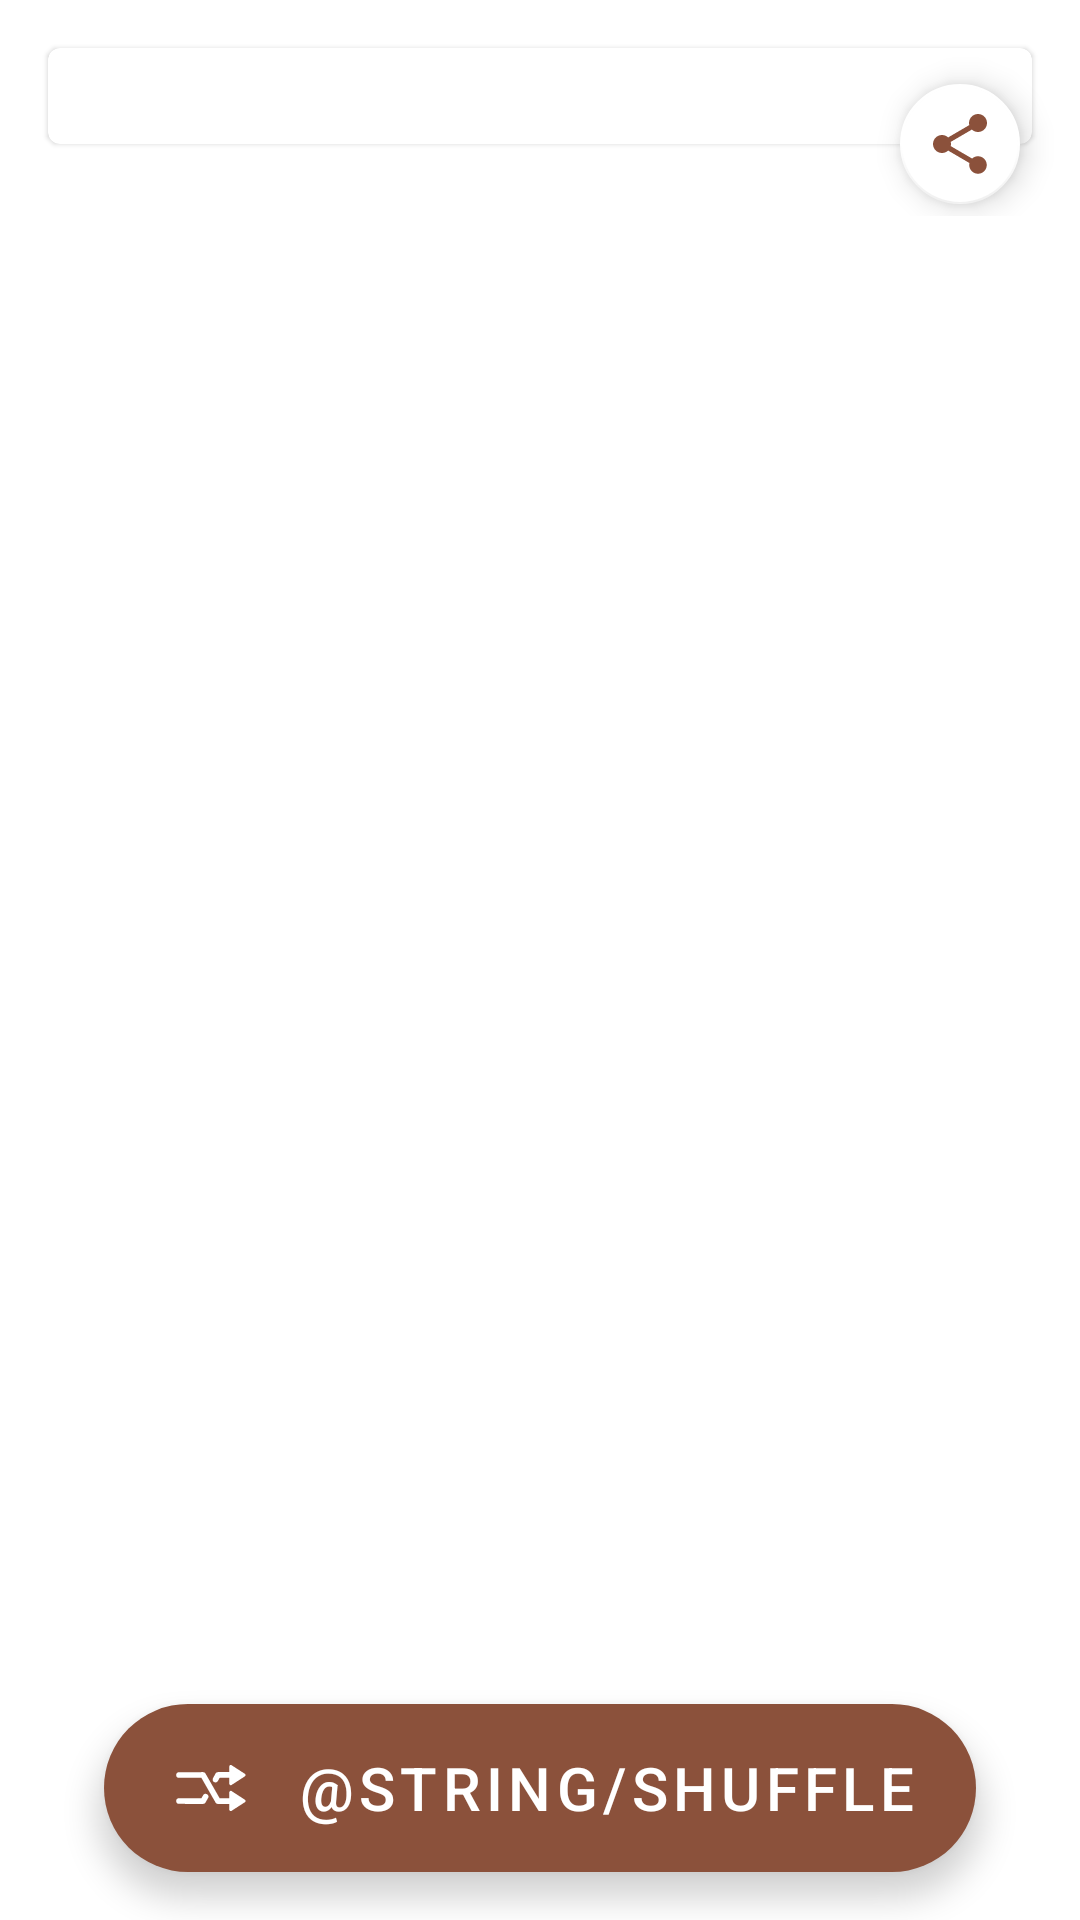

Screen size 1080w x 1920h. Icon name, then its box in pixels as (x1, y1, x2, y2):
share: (896, 93, 1032, 205)
